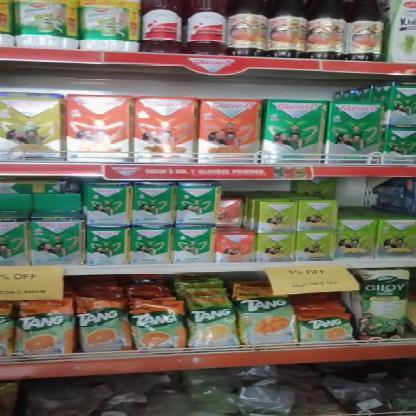Glucon D Nimbu Pani 1-KG: (0, 93, 68, 161)
Glucon D Regular 1-KG: (269, 100, 331, 164), (326, 100, 384, 162)
Glucon D Tangy orange 1-KG: (199, 100, 262, 166)
